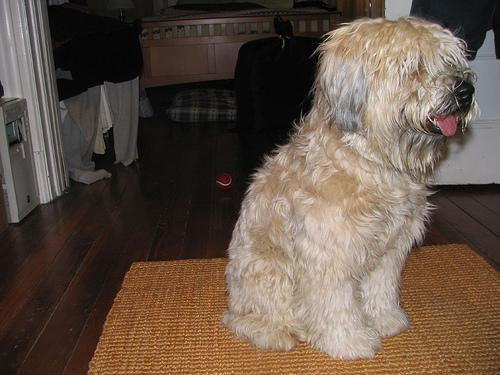dog-wheaten_terrier: (320, 19, 473, 139)
